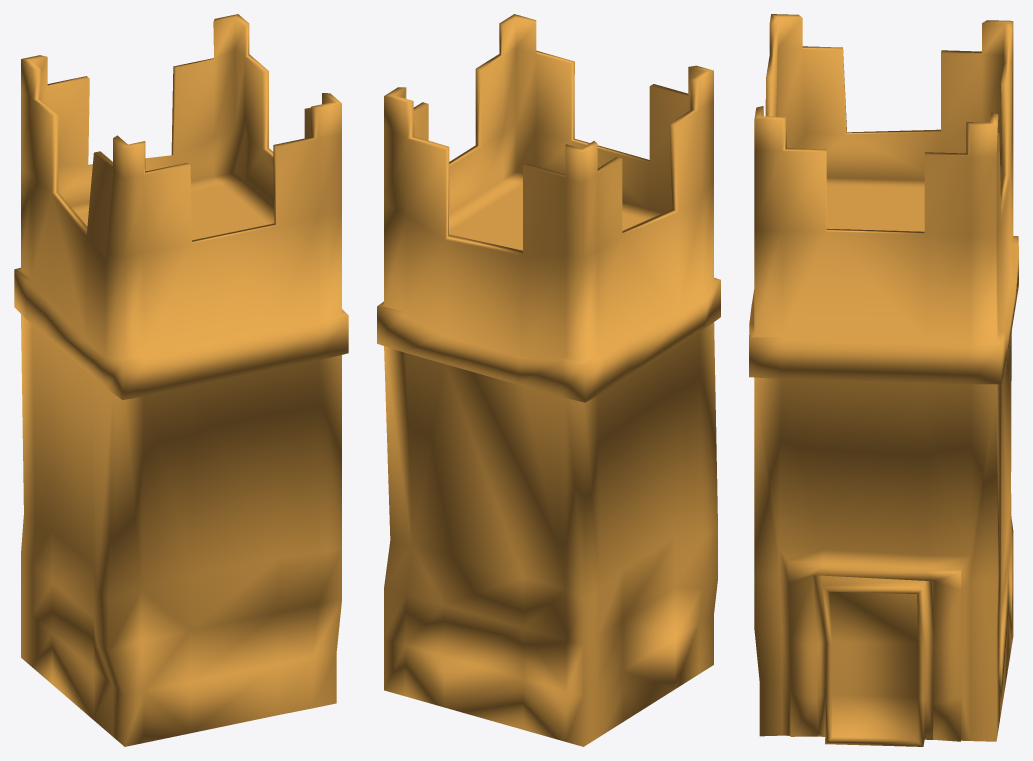
The model's file is SM_Castle_Tower_Tower2.fbx.
3 renders of one model, left to right at view 1: azimuth 30°, elevation 25°; view 2: azimuth 150°, elevation 25°; view 3: azimuth 270°, elevation 25°, orthographic. The views are drawn at different scales.
Visible parts, largest first — view 1: SM_Tower2.001; view 2: SM_Tower2.001; view 3: SM_Tower2.001.
Boxes of the visible parts, box(x1,y1,x2,y2) form: SM_Tower2.001: box(14, 14, 348, 746); SM_Tower2.001: box(377, 14, 720, 746); SM_Tower2.001: box(749, 14, 1018, 746).
Bounding box in the file's own units: 356 × 839 × 331.
